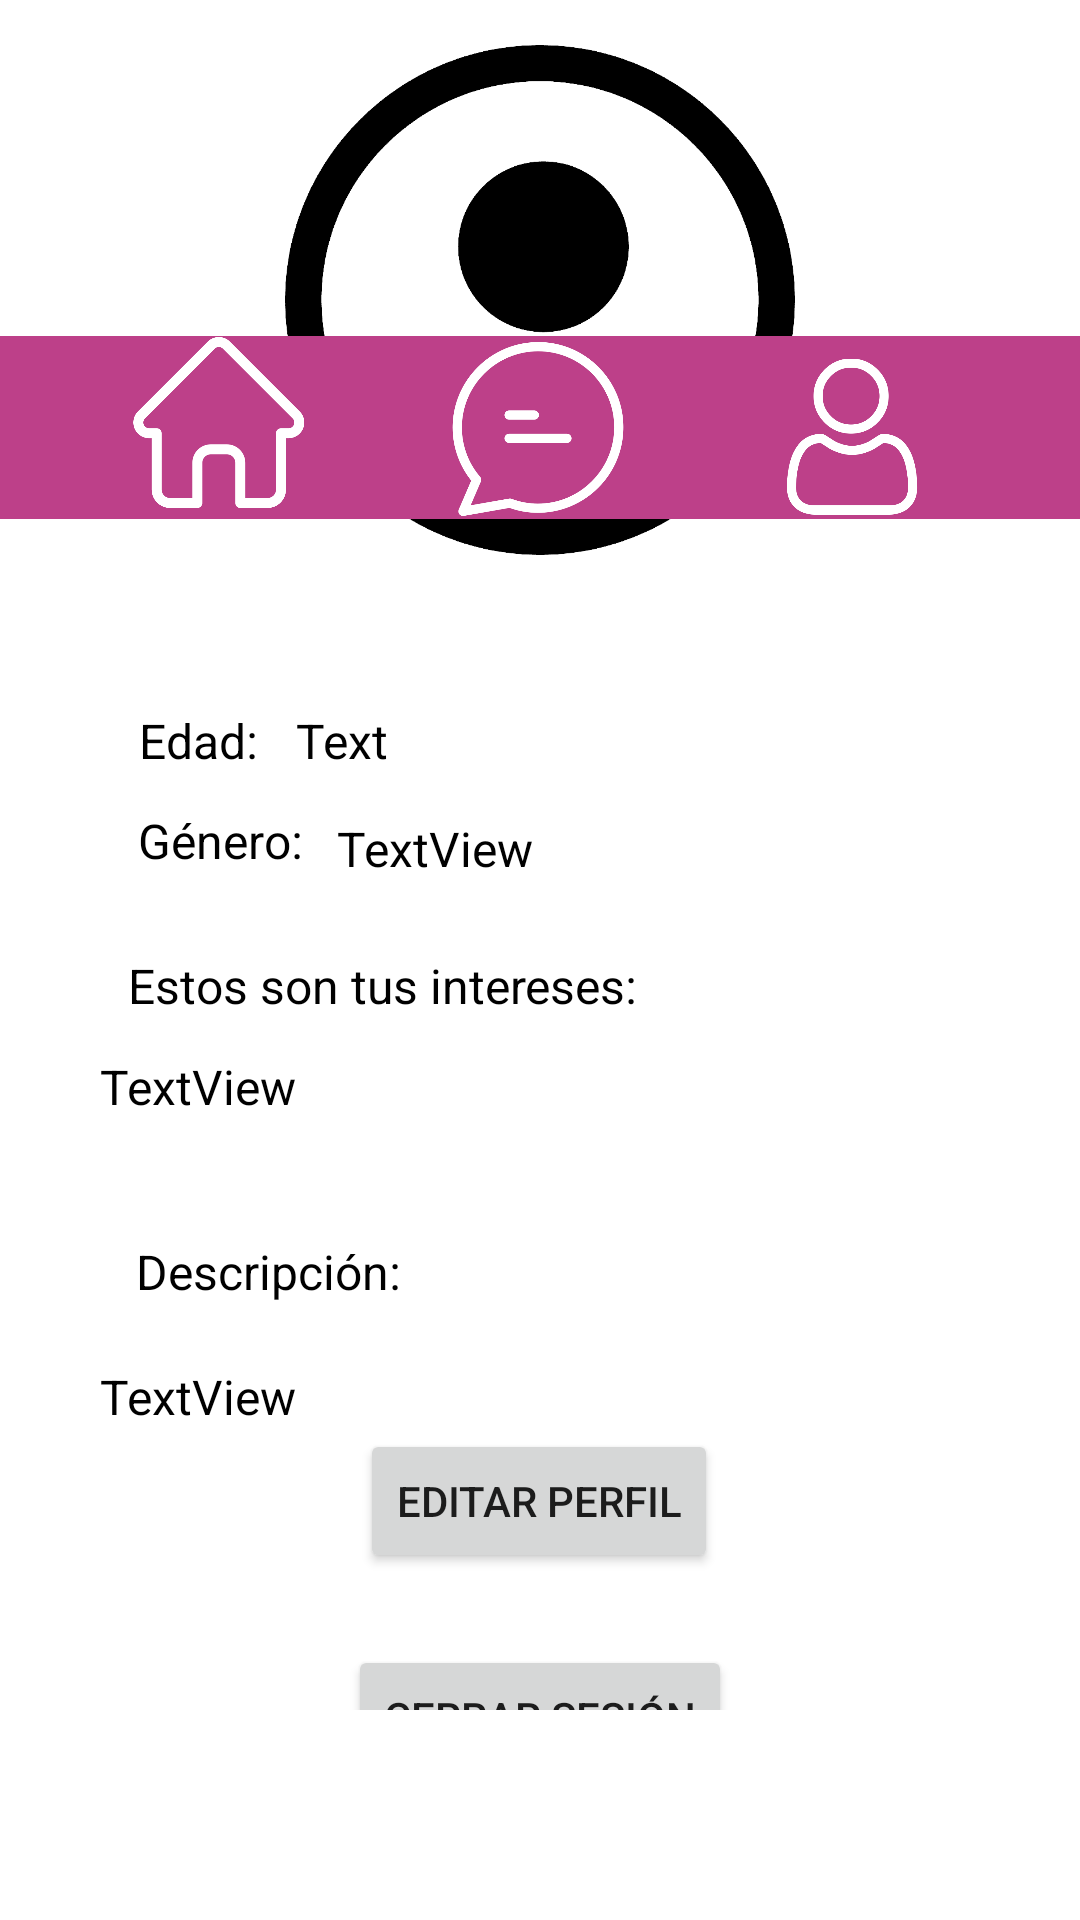

Screen size 1080x1920. Icon name, then its box in pixels as (left=x1, top=y1, right=x2, bottom=y2):
casa: (left=133, top=337, right=304, bottom=508)
chat im: (left=452, top=342, right=624, bottom=516)
iconousuario: (left=787, top=359, right=917, bottom=515)
